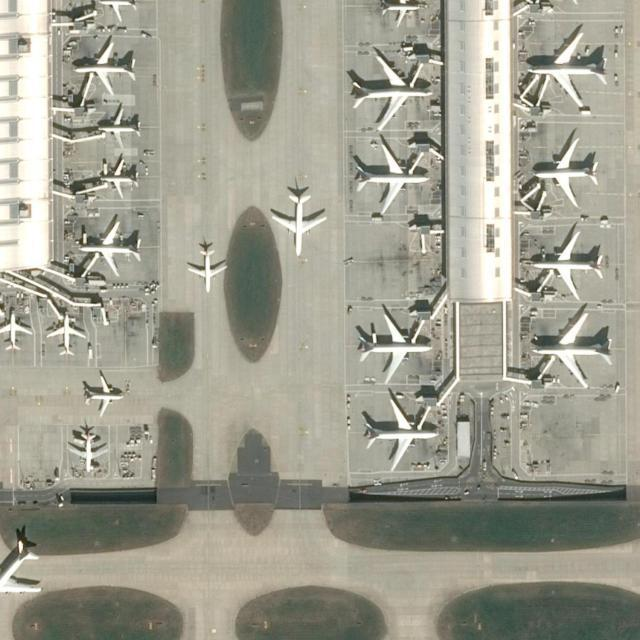Aircraft: (526, 31, 609, 110), (350, 54, 432, 129), (531, 313, 611, 389), (362, 397, 442, 471), (356, 311, 433, 382), (352, 143, 428, 213), (533, 231, 605, 299), (525, 137, 592, 207), (267, 191, 327, 257), (76, 220, 142, 276), (73, 41, 135, 95), (0, 535, 43, 609), (188, 247, 228, 291), (96, 109, 140, 148), (67, 430, 107, 471), (48, 312, 85, 356), (85, 376, 123, 416), (102, 160, 138, 197), (0, 311, 31, 351), (382, 0, 422, 24), (95, 0, 137, 20)
